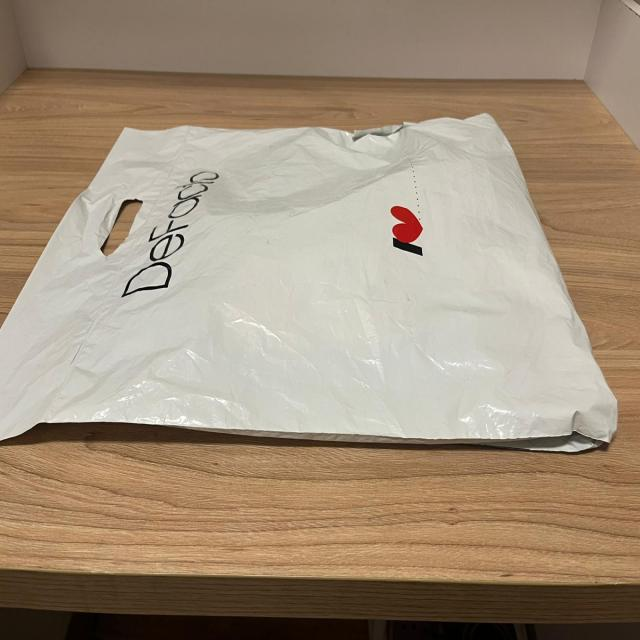good_package: (0, 112, 640, 454)
